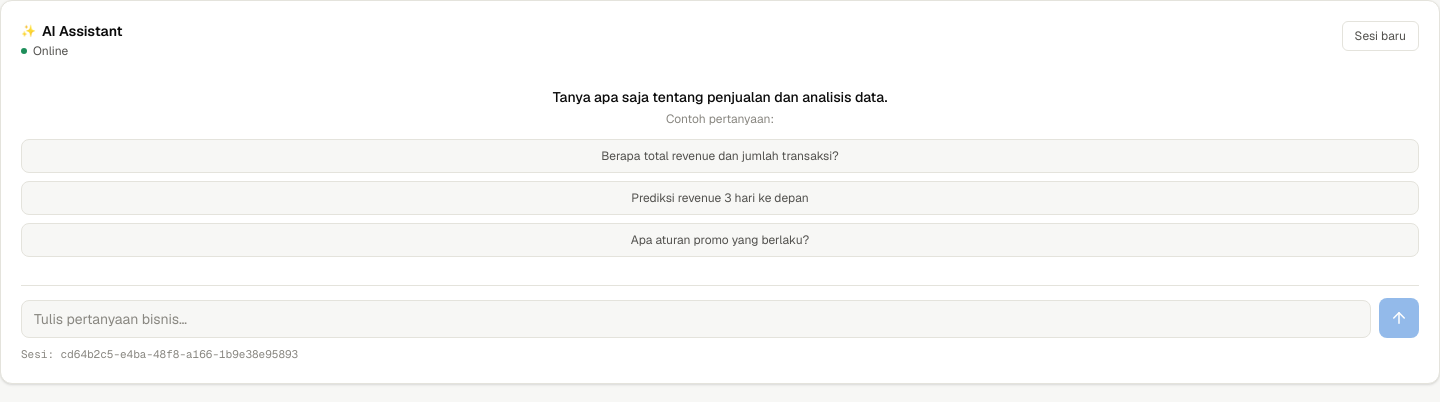
ChatPanel › saran pertanyaan bisa diklik langsung
The width and height of the screenshot is (1440, 402).
Click the button "Prediksi revenue 3 hari ke depan" at (720, 198), box [21,181,1419,215]
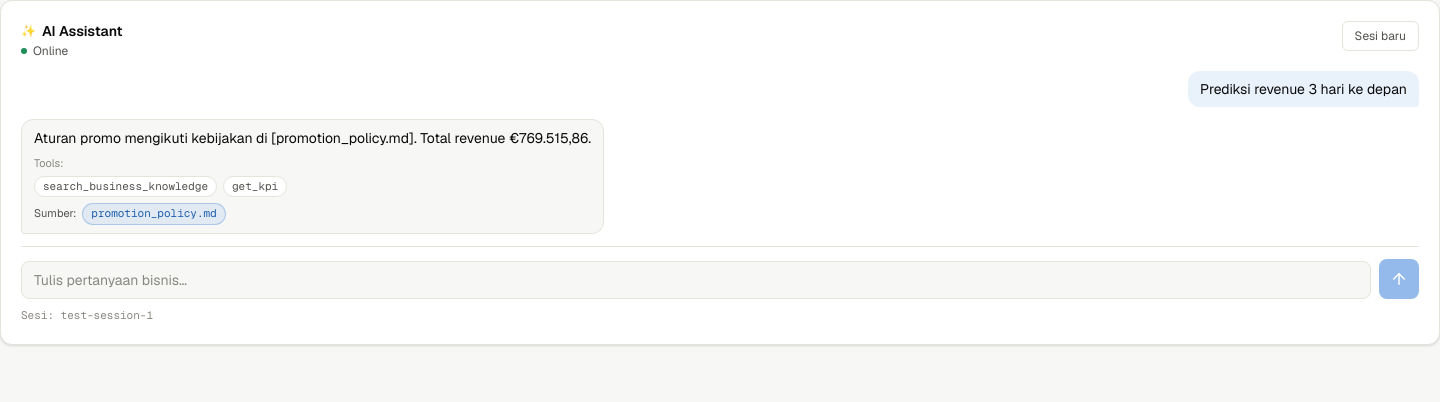
Expected: the text "Aturan promo mengikuti" is shown, [34,129,591,147]
